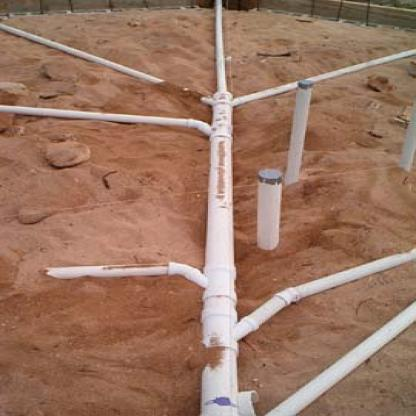PVC: (1, 2, 414, 414)
